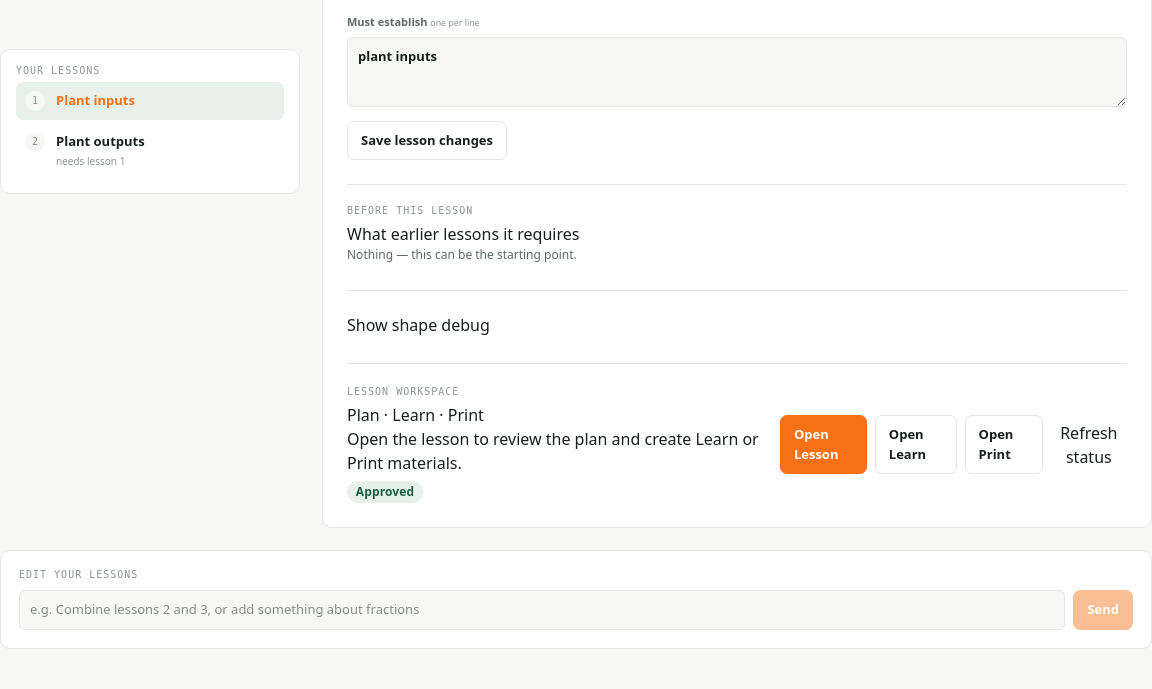
Test: /units/[id] › surfaces failed status refresh instead of silently presenting cached state as current
This screenshot has width=1152, height=689.
(page scrolled)
Click the button "Refresh status": (1089, 445) [1051,421,1127,469]
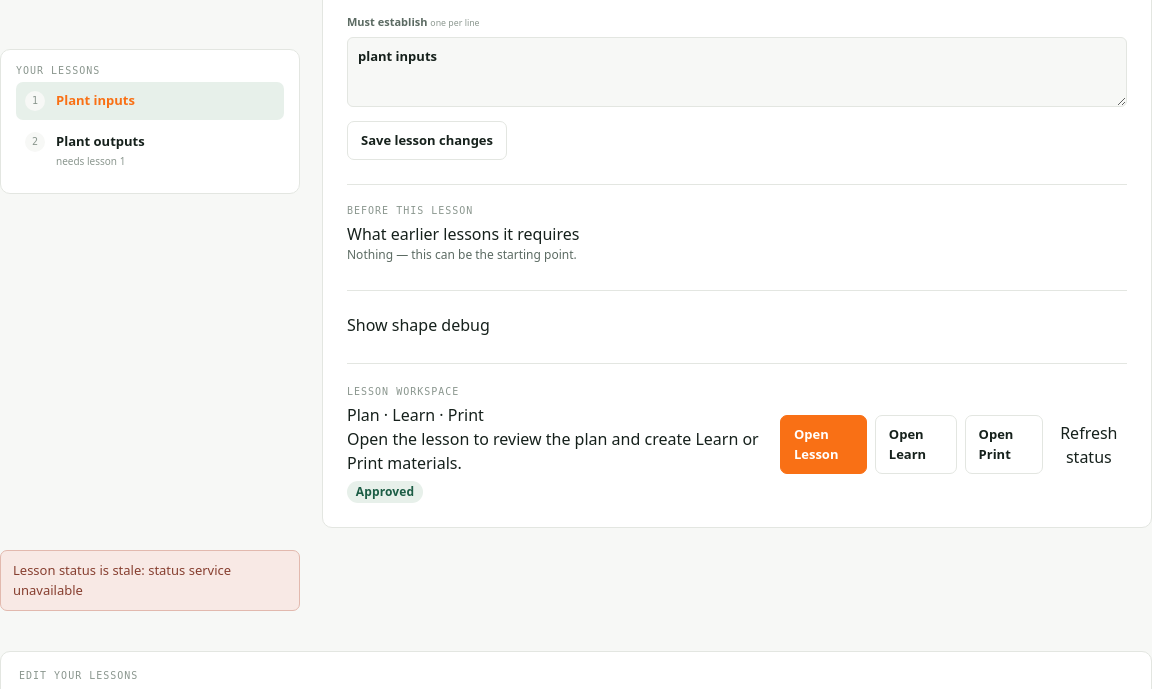
Check: the text "Lesson status is stale: status service unavailable" is shown, box [0,550,300,611]
